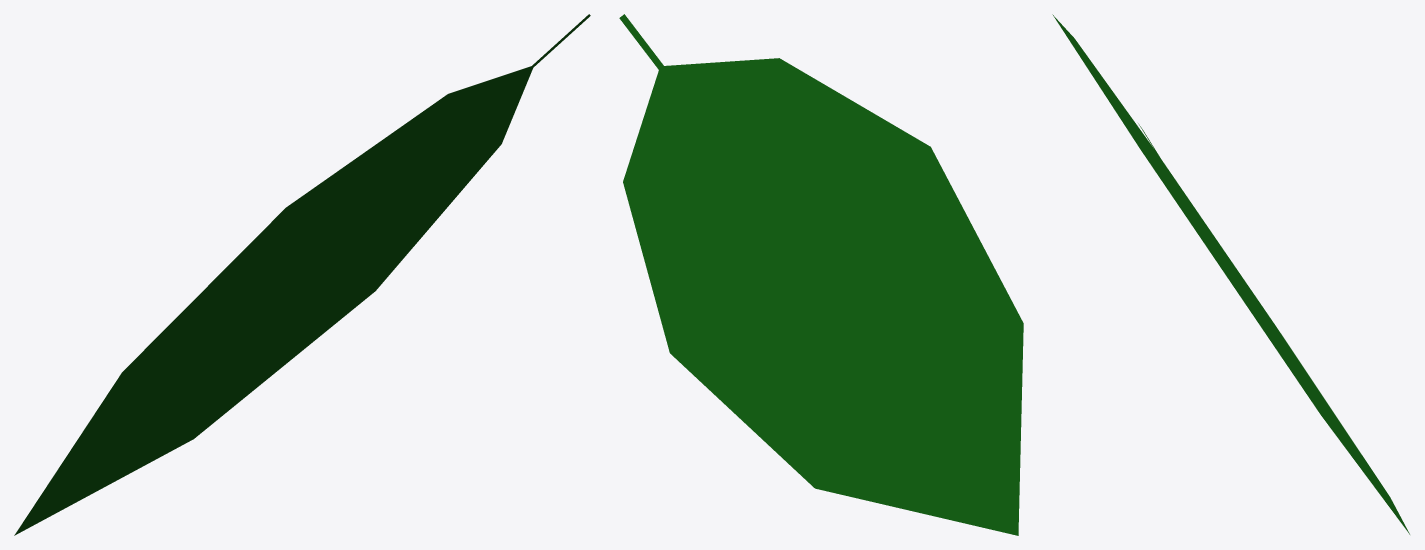
File: Leaves.027.obj
3 views of the same model, side by side, from view 1: azimuth 30°, elevation 25°; view 2: azimuth 150°, elevation 25°; view 3: azimuth 270°, elevation 25° (orthographic). The views are drawn at different scales.
Visible parts, largest first — view 1: Leaves.027_leaves.027; view 2: Leaves.027_leaves.027; view 3: Leaves.027_leaves.027.
Boxes of the visible parts, x1,y1,x2,y2 form: Leaves.027_leaves.027: (14, 14, 590, 535); Leaves.027_leaves.027: (619, 14, 1023, 535); Leaves.027_leaves.027: (1052, 14, 1409, 534).
Size of the model in its own units: 0.1161 by 0.0934 by 0.0438.
